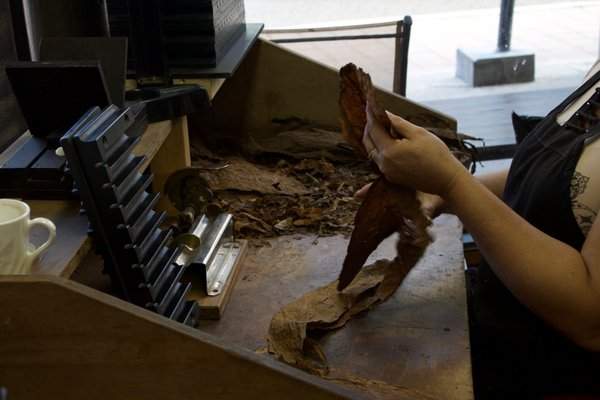pizza: (0, 198, 57, 275)
